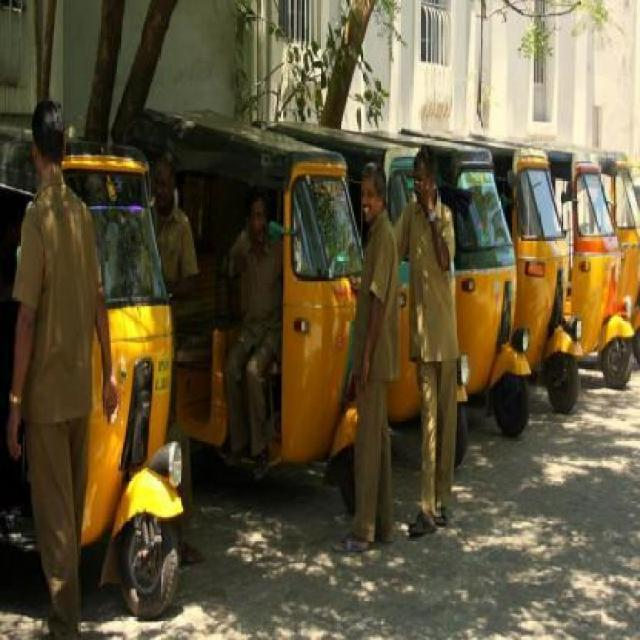vehicle: (160, 101, 361, 484), (80, 144, 185, 638), (455, 137, 533, 441), (514, 138, 582, 426), (568, 137, 632, 386)
